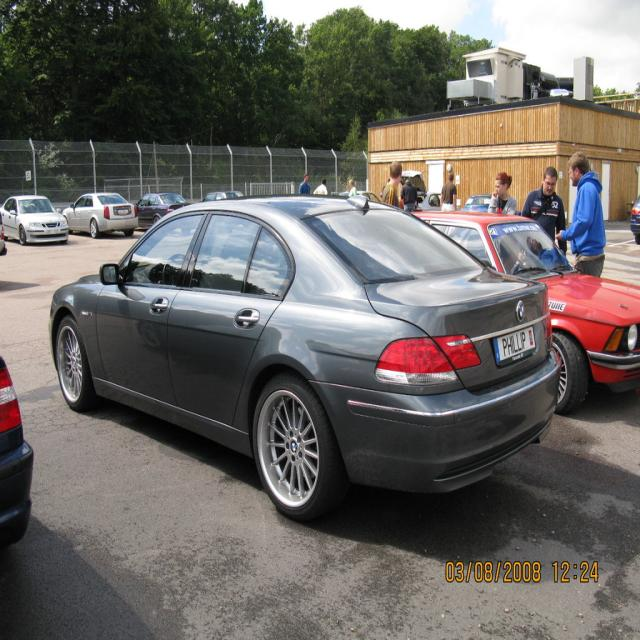car: (42, 195, 581, 520)
